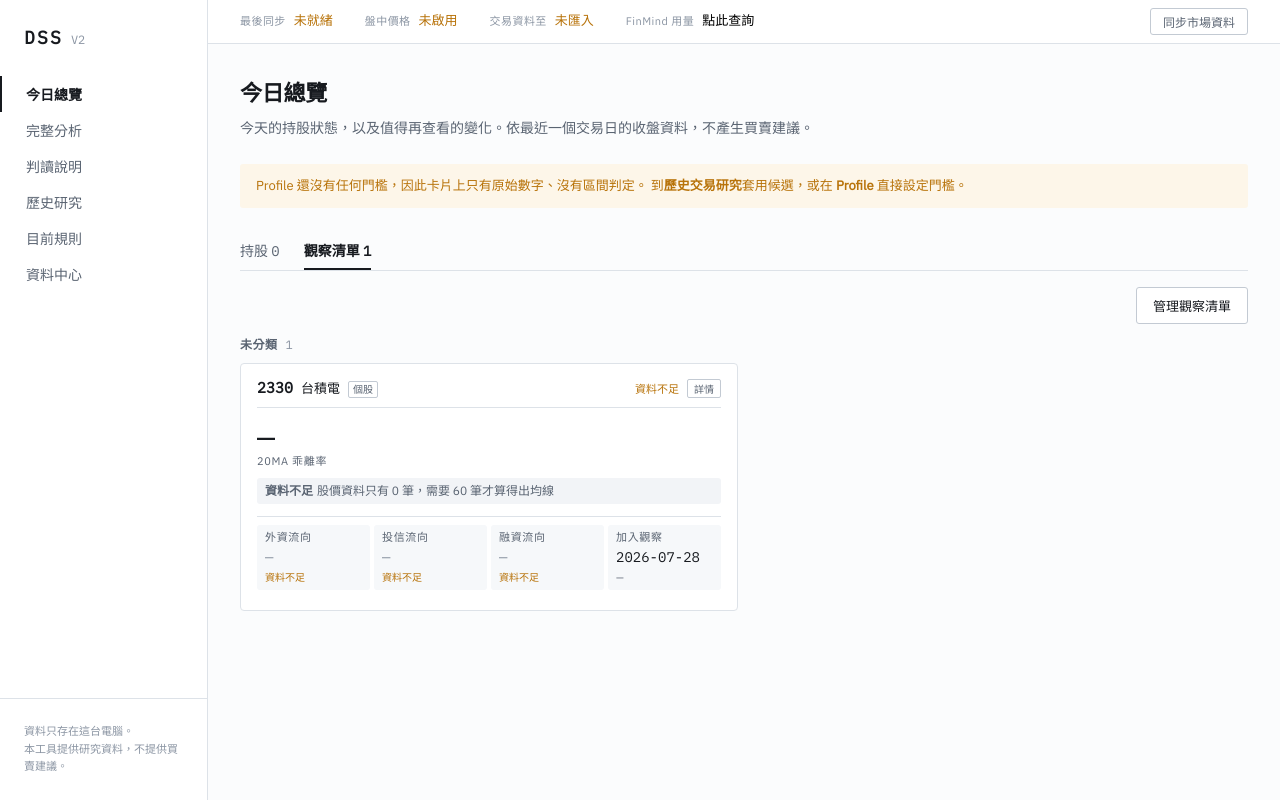
Test case: AppShell › 按 Esc 可關閉詳情，鍵盤使用者不會被困住
Click the button with aria-label "2330 台積電 詳情".
click(704, 388)  # box [687,378,721,398]
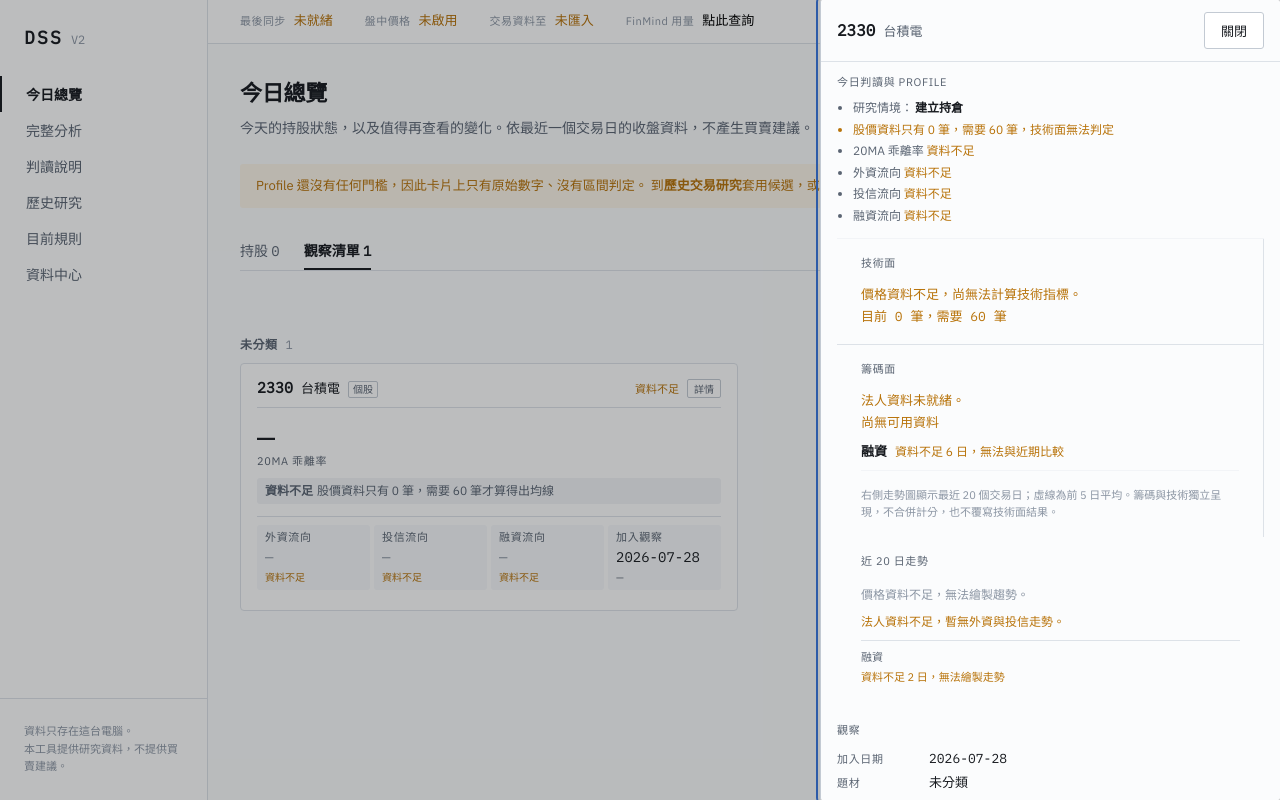
Check: the dialog is shown, box [820,0,1279,799]
Press Escape
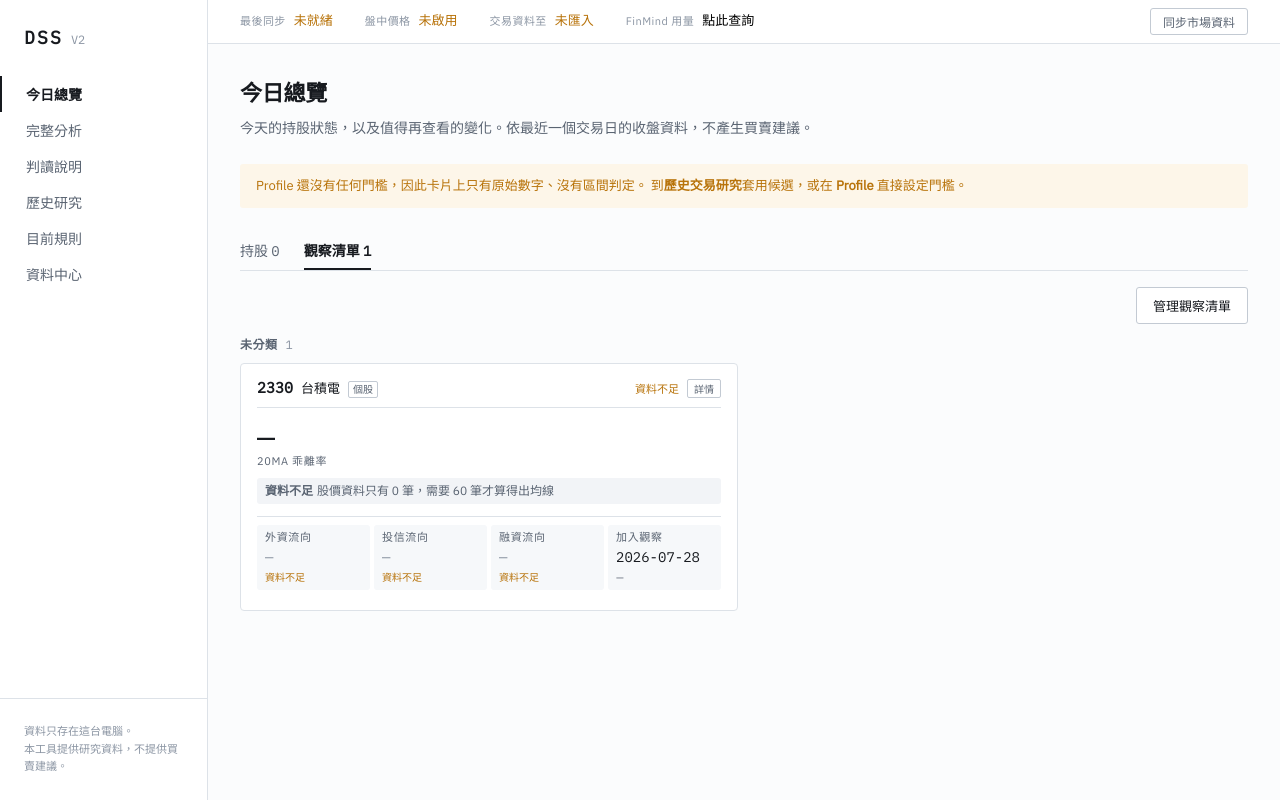
Check: the dialog is gone
